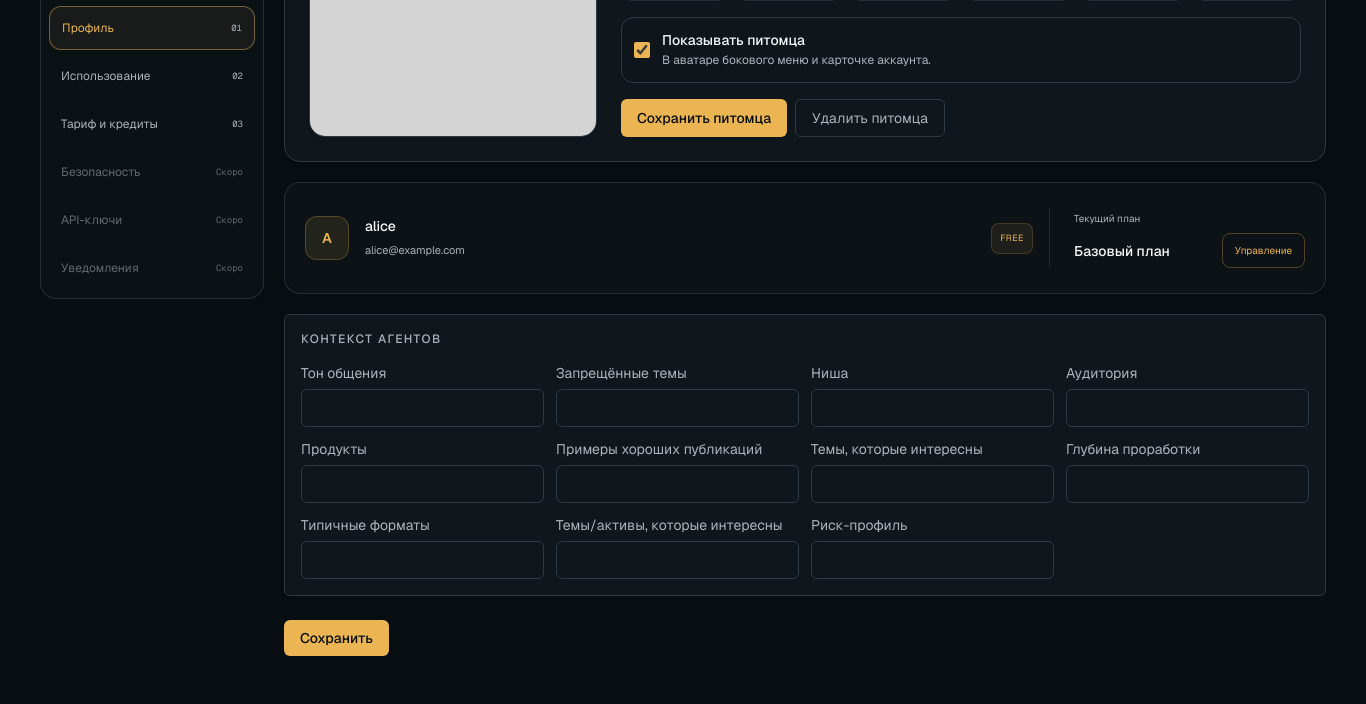
Scenario: ProfilePage › edits a field and saves the full profile shape
The image size is (1366, 704).
(page scrolled)
Type "дружелюбный" into the field labelled "Тон общения" at (422, 408), box [301,389,544,427]
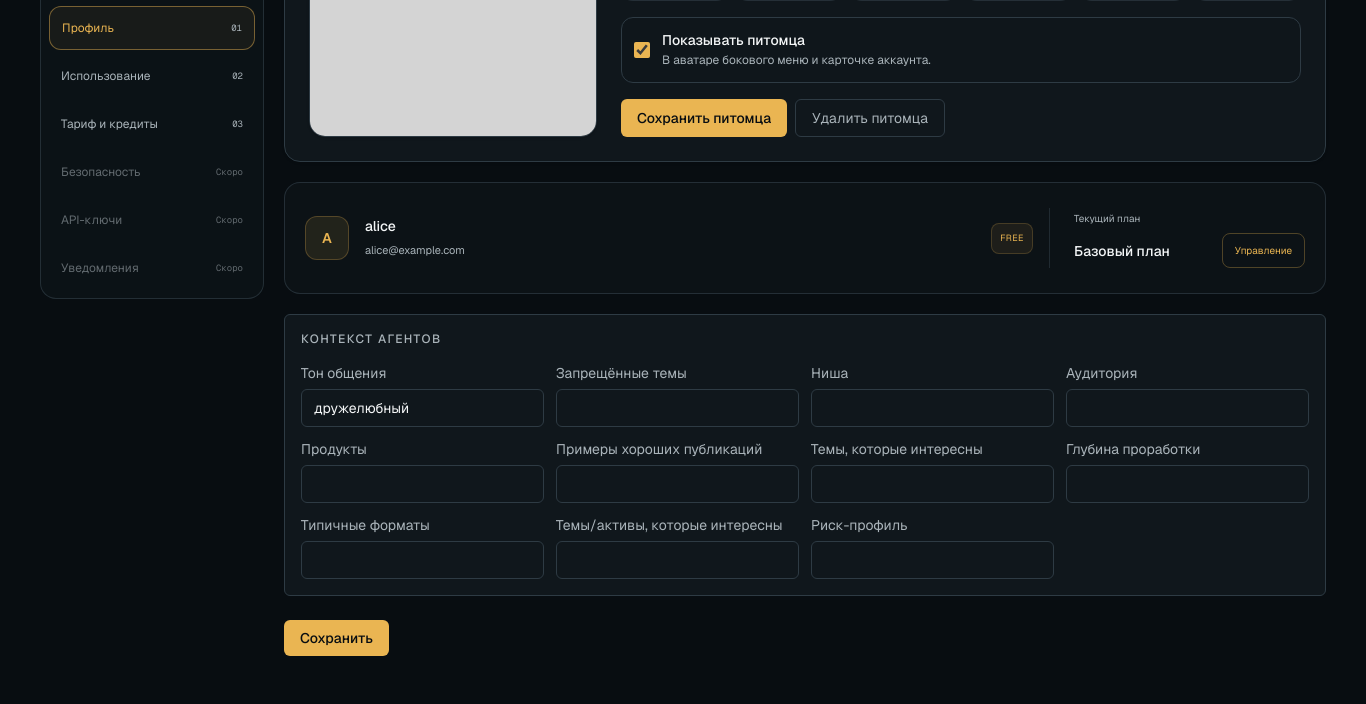
Click the button "Сохранить" at (336, 638), box [284,620,389,656]
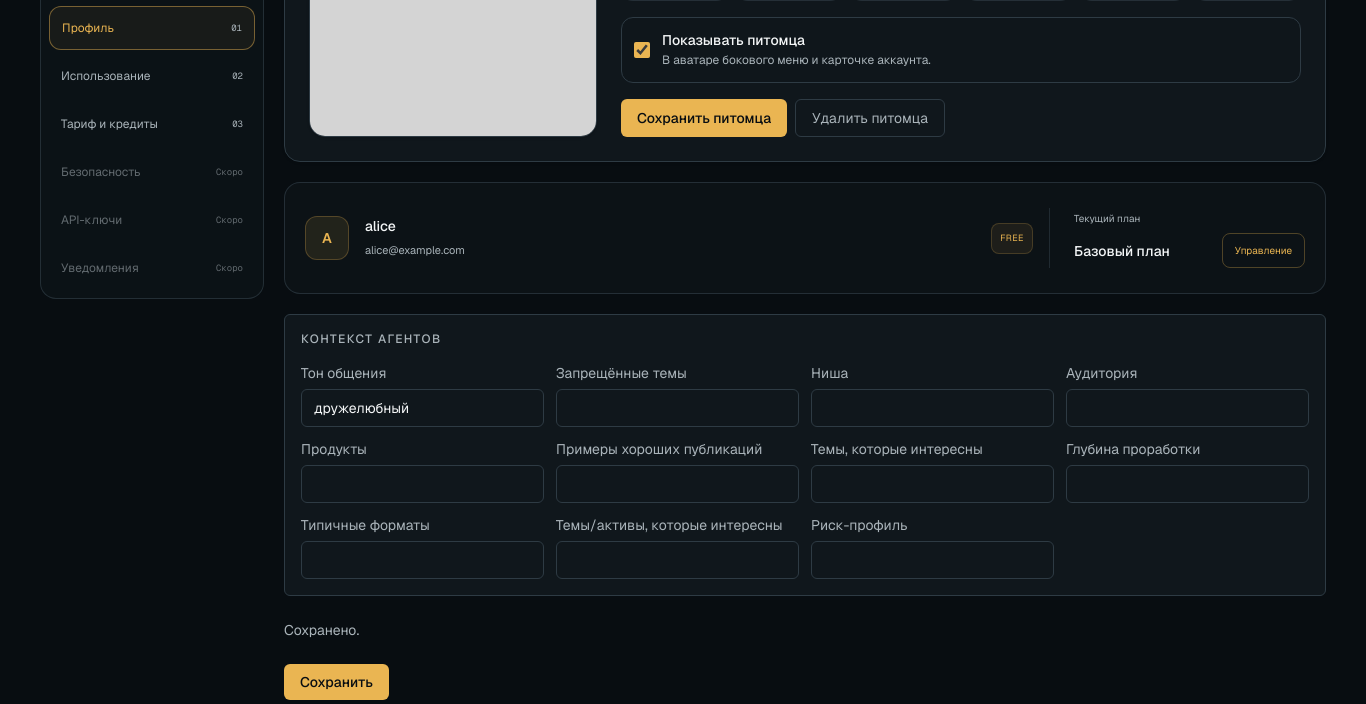
Expected: the text "Сохранено." is shown, [284,621,359,639]
